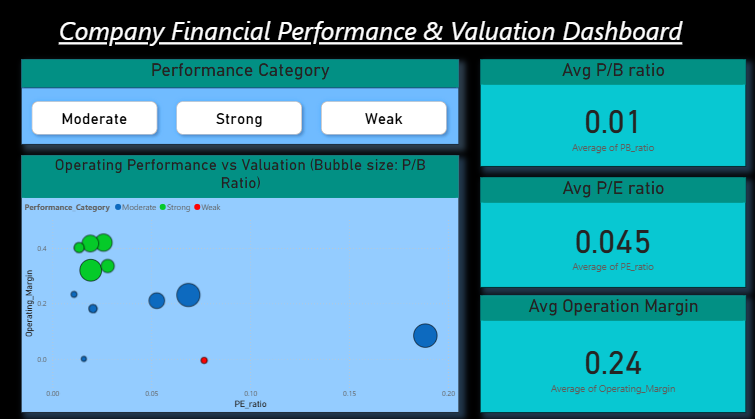

Layout of this report page (visuals, bound fields, positions):
{"tool":"powerbi","page":{"name":"Page 1","canvas":[1280,720],"ordinal":0},"visuals":[{"type":"card","title":"Avg Operation Margin","fields":{"Values":["Avg(Sheet1.Operating_Margin)"]},"box":[813,505.6,446.8,198.2],"z":0},{"type":"card","title":"Avg P/B ratio","fields":{"Values":["Avg(Sheet1.PB_ratio)"]},"box":[813,109.2,446.8,181.4],"z":1000},{"type":"card","title":"Avg P/E ratio","fields":{"Values":["Avg(Sheet1.PE_ratio)"]},"box":[813,307.4,446.8,186.5],"z":2000},{"type":"textbox","box":[26.9,26.9,1204.4,94.1],"z":3000},{"type":"scatterChart","title":"Operating Performance vs Valuation (Bubble size: P/B Ratio)","fields":{"X":["Sheet1.PE_ratio"],"Y":["Sheet1.Operating_Margin"],"Size":["Sum(Sheet1.PB_ratio)"],"Series":["Sheet1.Performance_Category"]},"box":[42,270.4,735.7,433.4],"z":4000},{"type":"advancedSlicerVisual","title":"Performance Category","fields":{"Values":["Sheet1.Performance_Category"]},"box":[42,109.2,735.7,144.5],"z":5000}]}

Visuals, with their boxes in screenshot pixels (x1, y1, x2, y2), scaled from the page's 1280x720 canvas onto the 755x419 screenshot:
"Avg Operation Margin" card: 480, 294, 743, 410
"Avg P/B ratio" card: 480, 64, 743, 169
"Avg P/E ratio" card: 480, 179, 743, 287
textbox: 16, 16, 726, 70
"Operating Performance vs Valuation (Bubble size: P/B Ratio)" scatterChart: 25, 157, 459, 410
"Performance Category" advancedSlicerVisual: 25, 64, 459, 148
